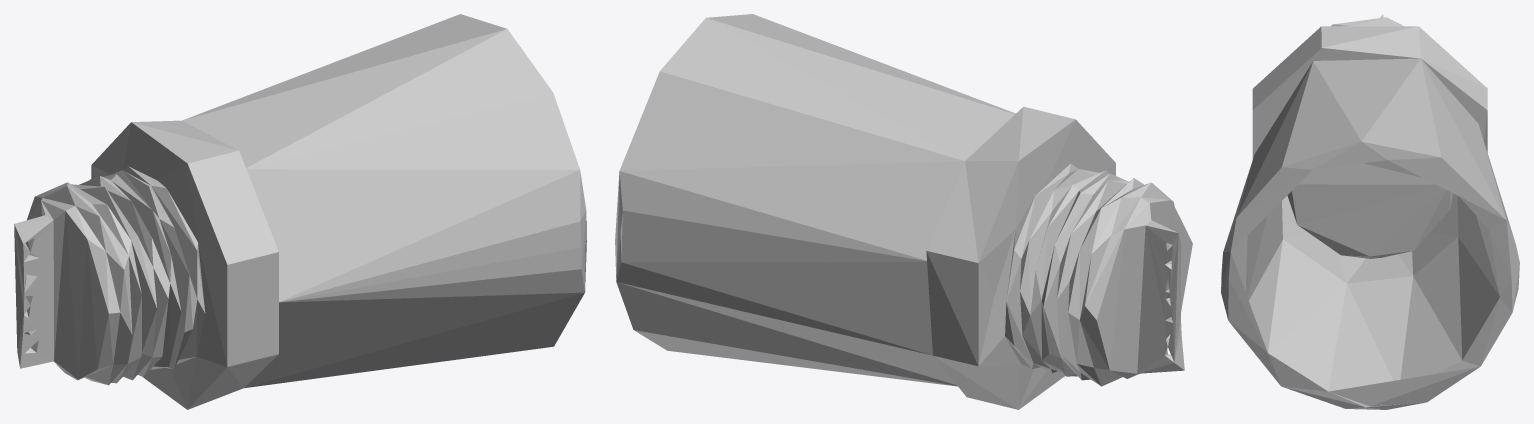
The model's file is sonar_link.dae.
3 views of the same model, side by side, from view 1: azimuth 30°, elevation 25°; view 2: azimuth 150°, elevation 25°; view 3: azimuth 270°, elevation 25° (orthographic). The views are drawn at different scales.
Parts seen in each view (by area): view 1: sonar_link; view 2: sonar_link; view 3: sonar_link.
Part boxes in pixels (bbox=[...]): sonar_link: bbox=[14, 14, 586, 409]; sonar_link: bbox=[615, 14, 1192, 409]; sonar_link: bbox=[1221, 14, 1519, 409].
Bounding box in the file's own units: 0.0714 × 0.0442 × 0.0443.
1 material, 1 textured.
